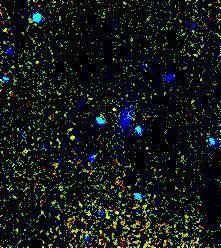star: (54, 122, 84, 152)
